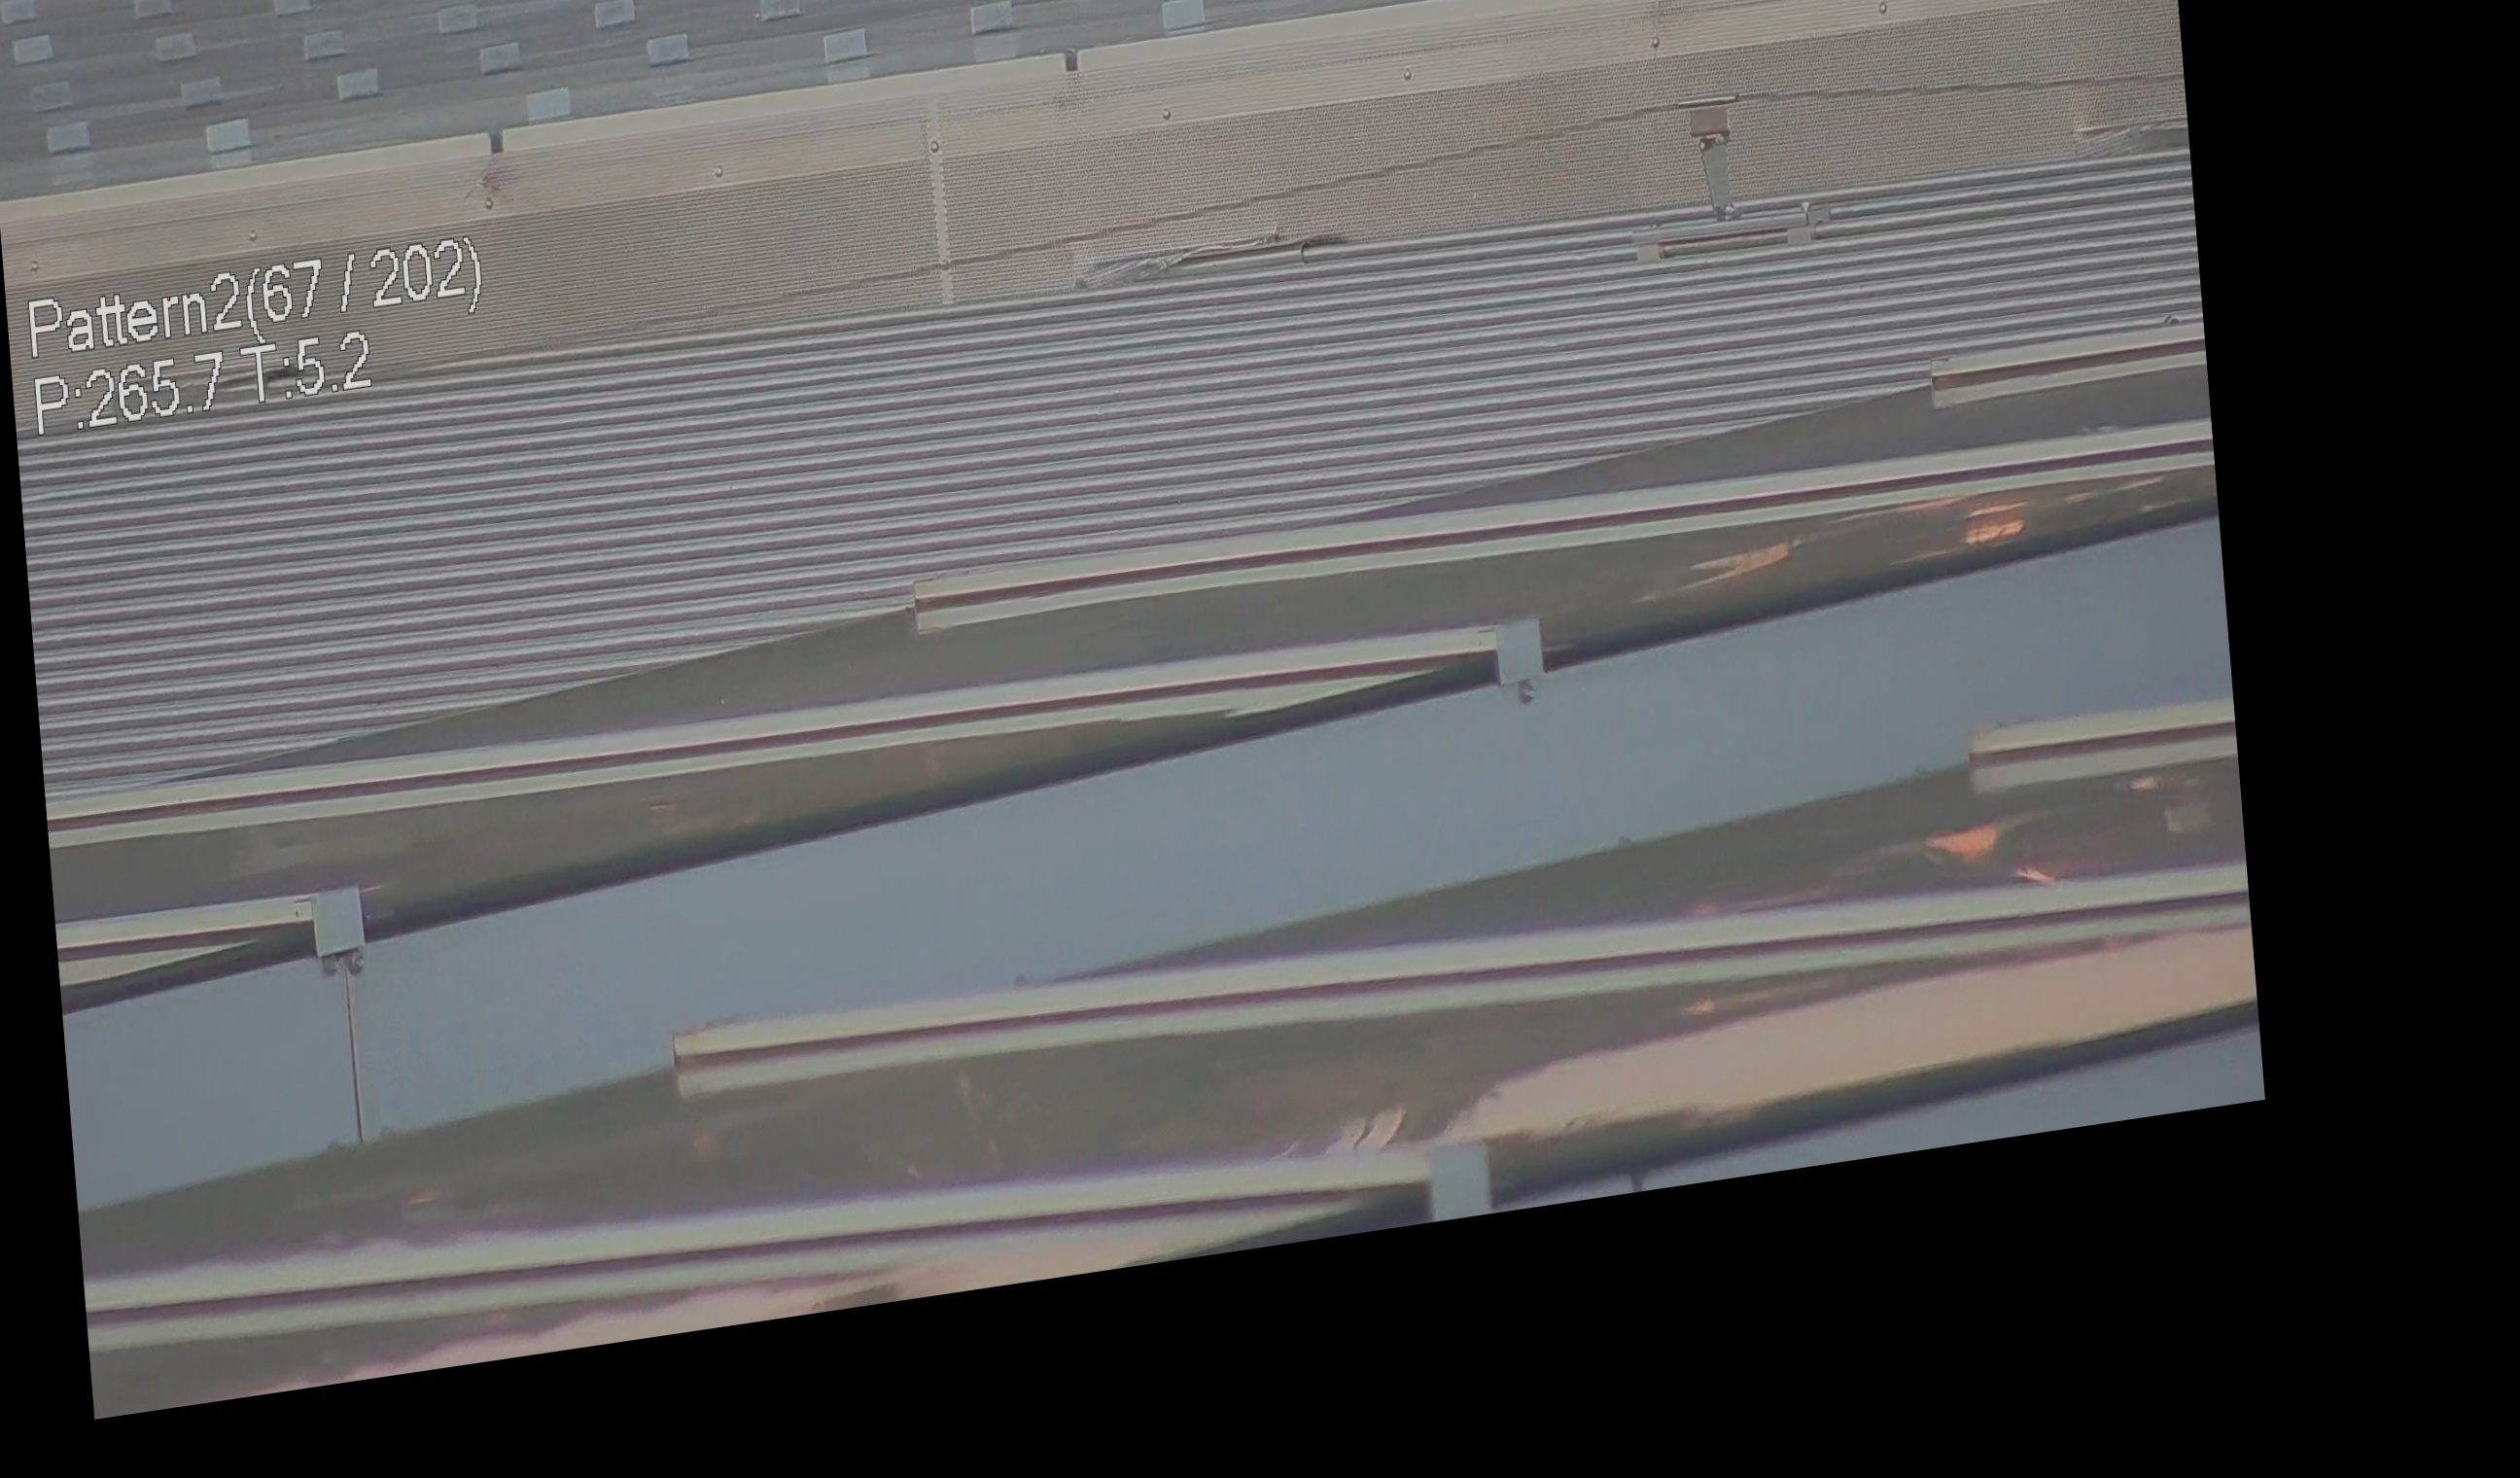Other: (1688, 86, 1760, 209)
